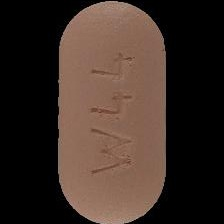68180-774: (0, 0, 224, 224)
